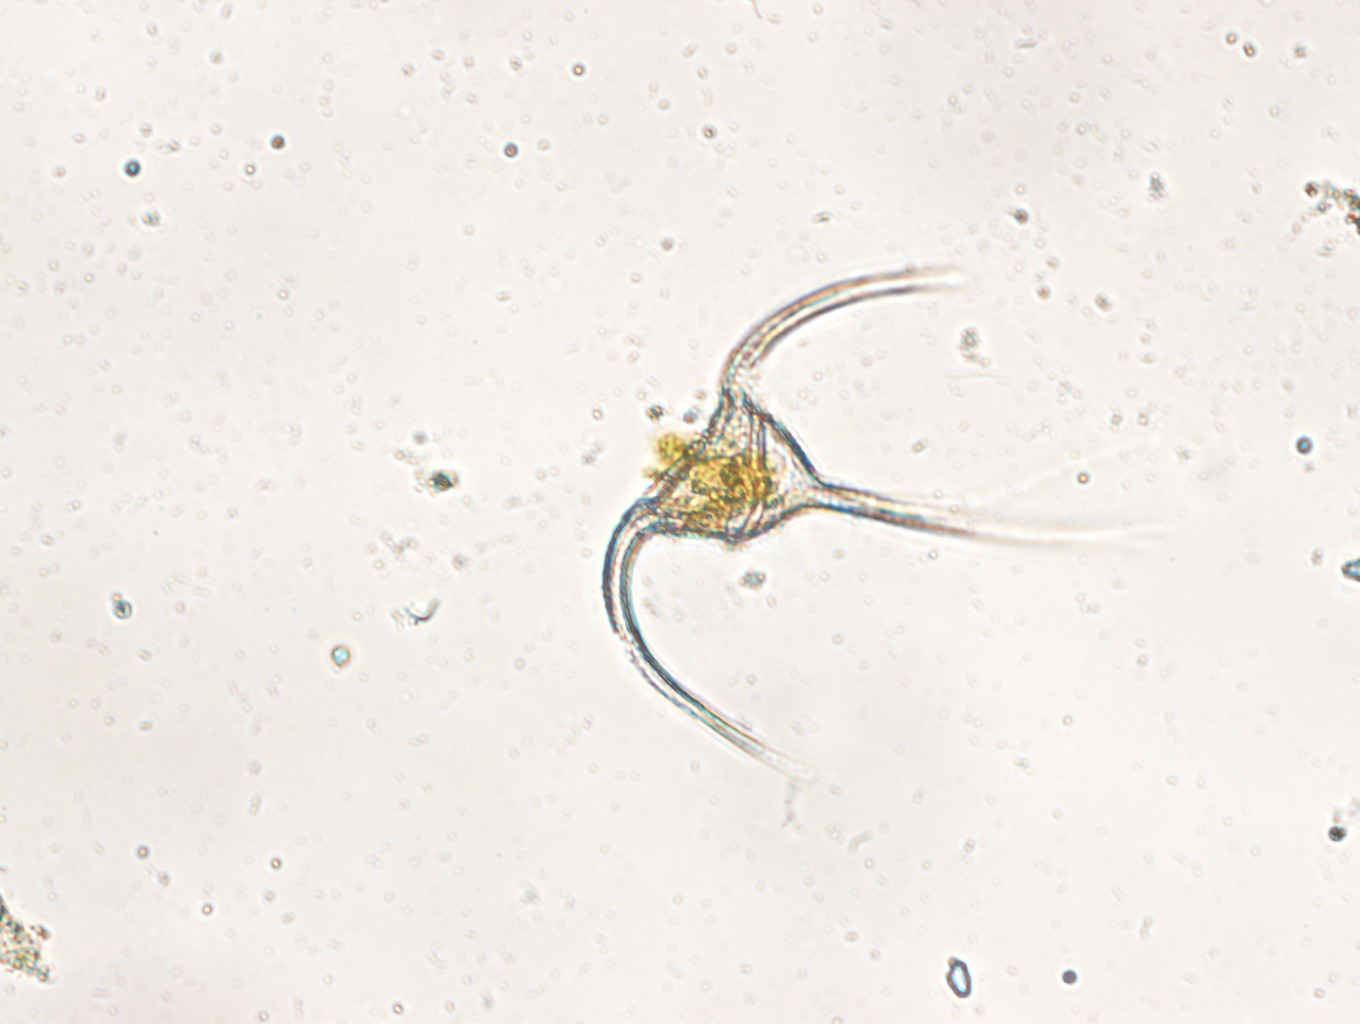ceratium trichoceros: (578, 239, 1133, 791)
